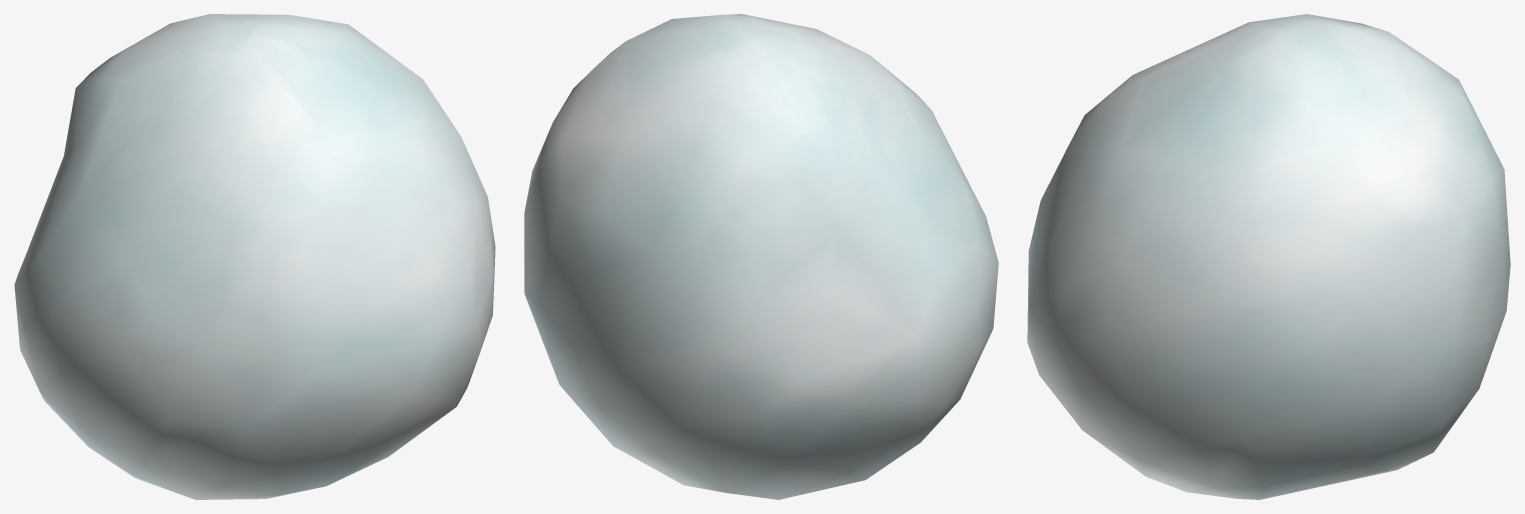
File: snowBall.glb
3 views of the same model, side by side, from view 1: azimuth 30°, elevation 25°; view 2: azimuth 150°, elevation 25°; view 3: azimuth 270°, elevation 25° (orthographic). The views are drawn at different scales.
Visible parts, largest first — view 1: snowBall; view 2: snowBall; view 3: snowBall.
Boxes of the visible parts, <box> form: snowBall: <box>14,14,495,499</box>; snowBall: <box>524,14,998,499</box>; snowBall: <box>1027,14,1510,499</box>.
Size of the model in its own units: 0.0958 by 0.0944 by 0.0914.
Materials: 1 (1 with a texture image).
